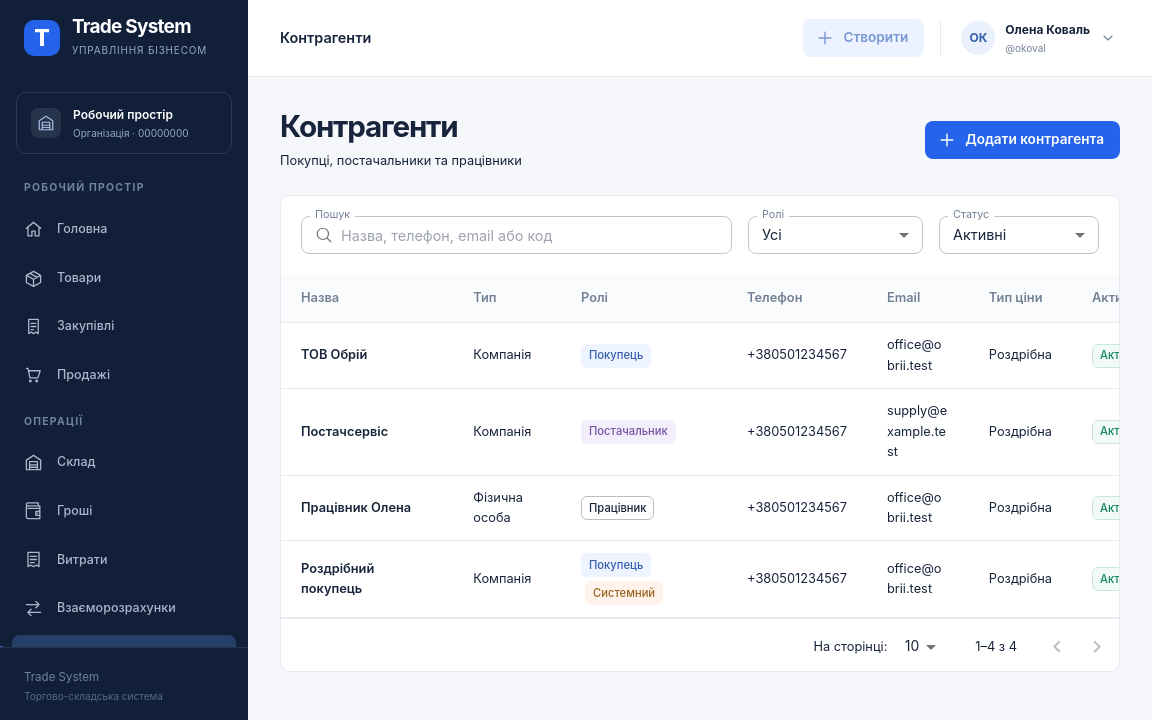
Test: Counterparty UI › filters Постачальники using the existing role flags
Expected: the link "ТОВ Обрій" is shown, [301, 347, 367, 362]
What coordinates should you click on to do the following:
click the dropdown named "Ролі"
I would click on:
 (772, 234)
Its box is [762, 226, 782, 243].
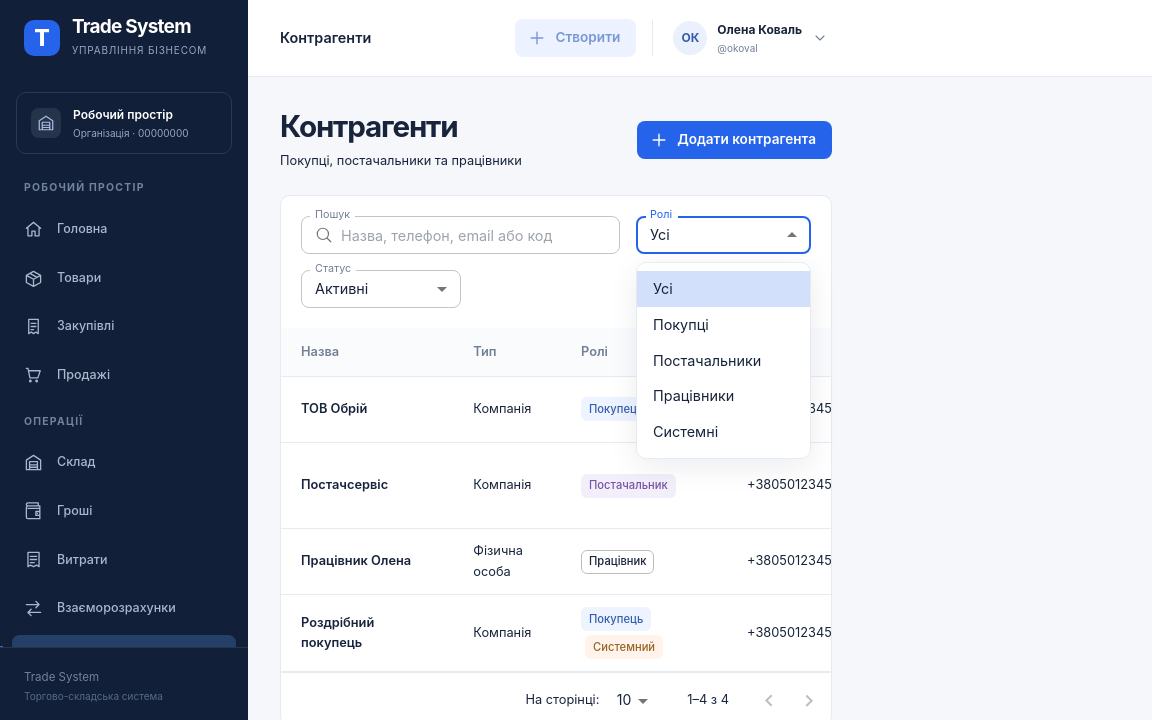
What coordinates should you click on to do the following:
click the option "Постачальники"
I would click on:
 (707, 360)
Its box is [653, 352, 761, 368].
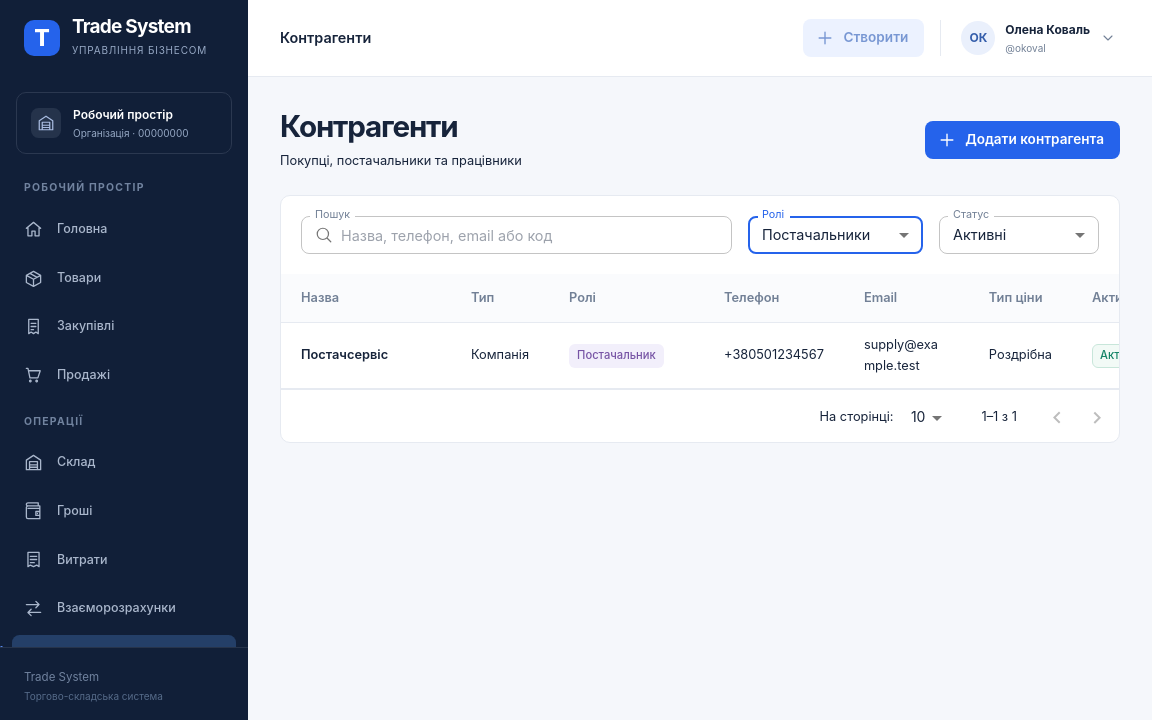
Expected: the link "Постачсервіс" is shown, [301, 347, 388, 362]
Expected: the link "ТОВ Обрій" is gone
